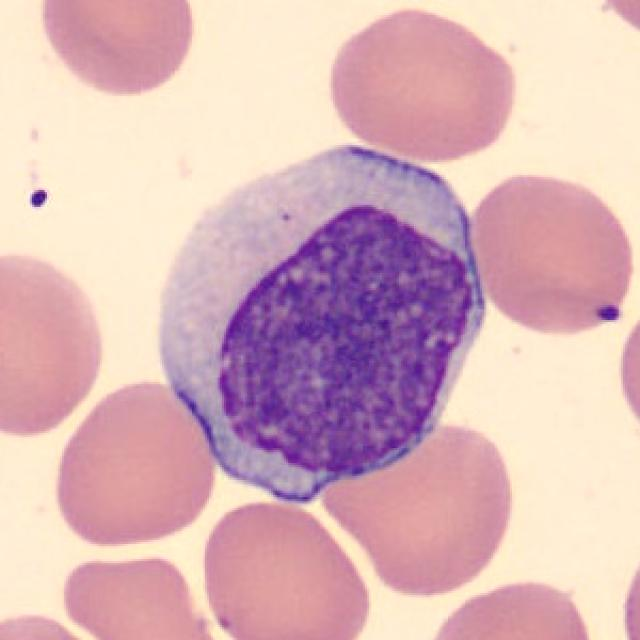WBC: (132, 124, 514, 512)
